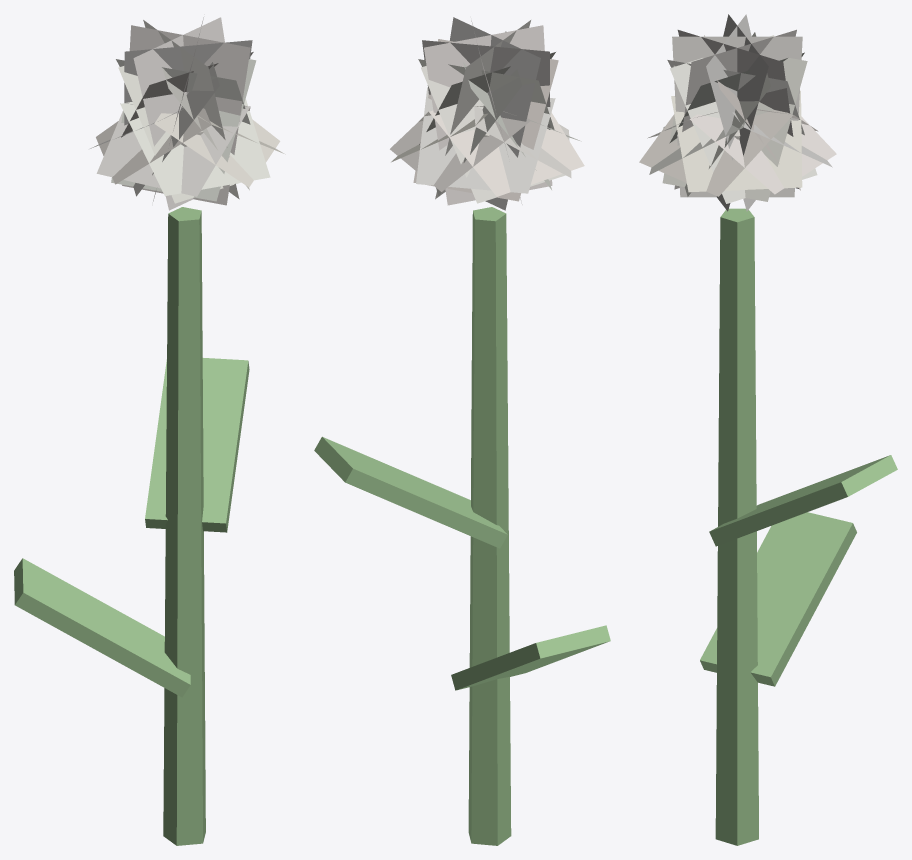
The model's file is rose_paper_planted.glb.
3 views of the same model, side by side, from view 1: azimuth 30°, elevation 25°; view 2: azimuth 150°, elevation 25°; view 3: azimuth 270°, elevation 25° (orthographic).
Visible parts, largest first — view 1: Rose_paper_planted; view 2: Rose_paper_planted; view 3: Rose_paper_planted.
Part boxes in pixels (x1=…): Rose_paper_planted: x1=14, y1=17, x2=285, y2=845; Rose_paper_planted: x1=314, y1=17, x2=610, y2=845; Rose_paper_planted: x1=639, y1=14, x2=897, y2=845.
Size of the model in its own units: 0.1875 by 0.5369 by 0.1586.
